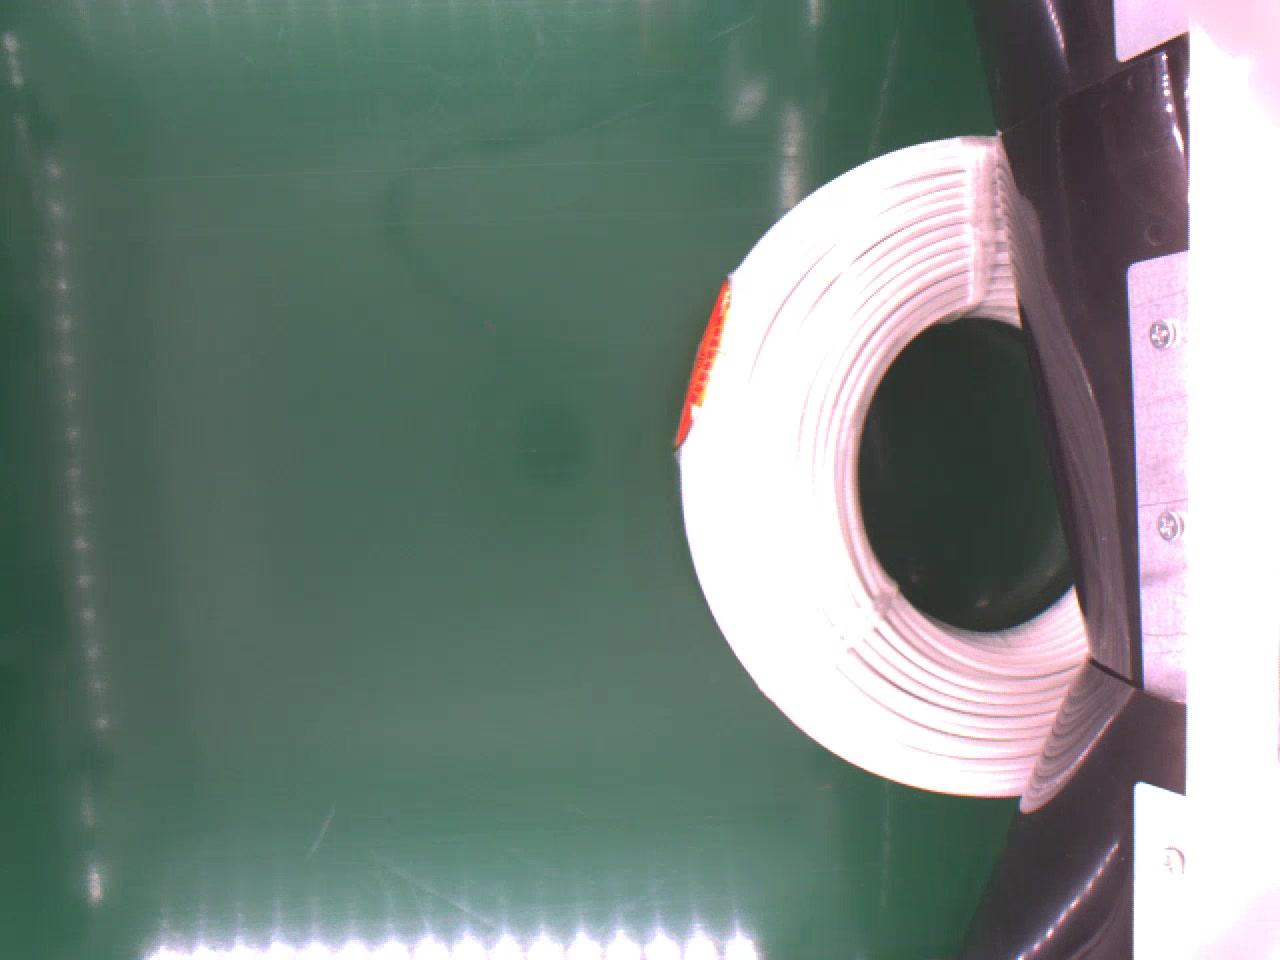white: (678, 136, 1107, 801)
